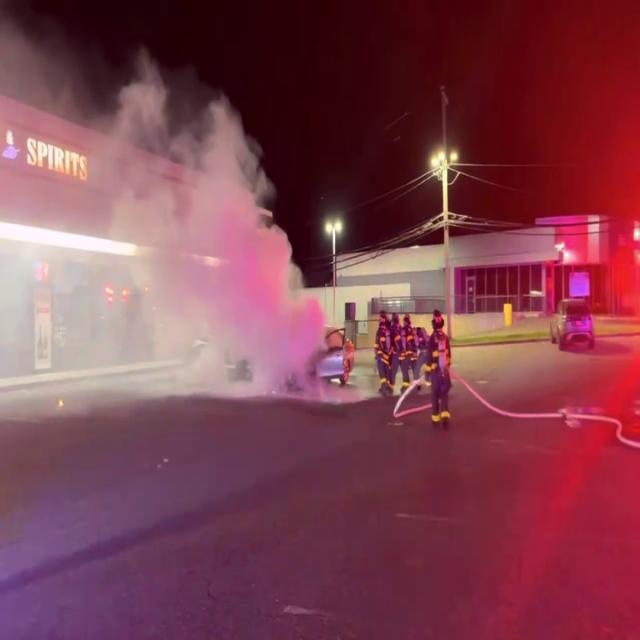Smoke: (69, 38, 312, 420)
